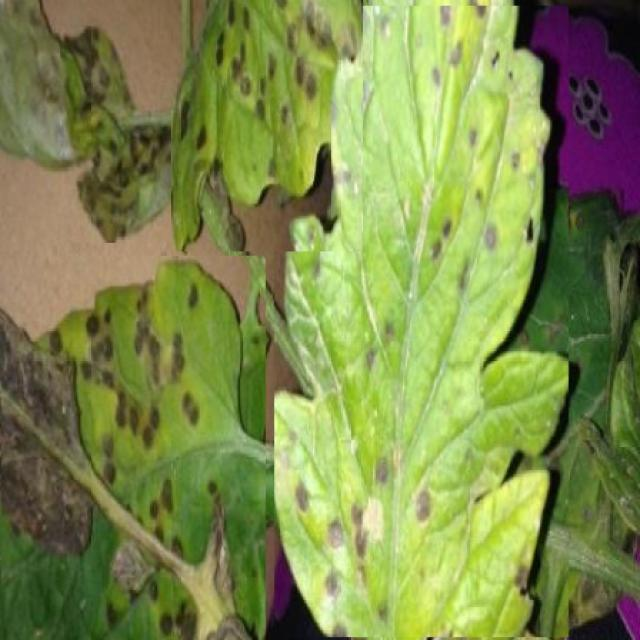Septoria: (274, 5, 569, 638), (1, 255, 265, 640), (170, 0, 363, 251), (0, 0, 181, 243)
